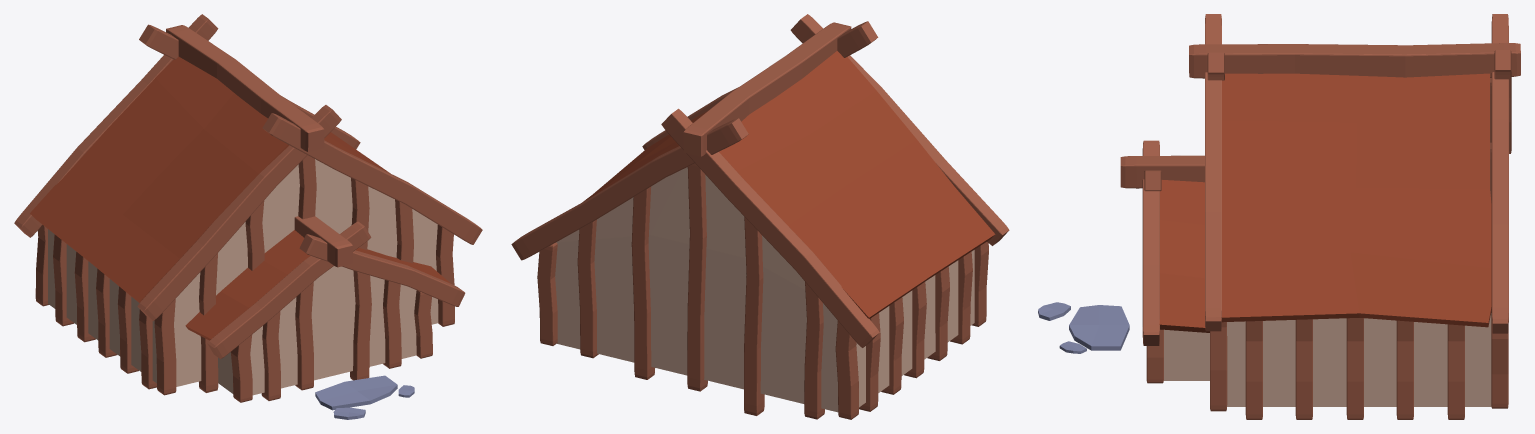
The model's file is house3.fbx.
The picture shows the model from 3 angles, left to right: view 1: azimuth 30°, elevation 25°; view 2: azimuth 150°, elevation 25°; view 3: azimuth 270°, elevation 25°; orthographic projection. The views are drawn at different scales.
Parts seen in each view (by area): view 1: Plane.016, Plane.010, Plane.009, Cube.134, Cube.135, Cube.137, Plane.014, Cube.128, Plane.001, Cube.129, Cube.149, Plane.003 (+24 smaller); view 2: Plane.016, Plane.013, Cube.149, Cube.147, Cube.137, Plane.001, Cube.144, Cube.148, Cube.143, Cube.134, Cube.001, Cube.002 (+10 smaller); view 3: Plane.015, Plane.018, Cube.137, Plane.011, Cube.147, Cube.135, Cube.129, Plane.003, Plane.020, Cube.013, Cube.005, Cube.004 (+9 smaller).
Boxes of the visible parts, x1,y1,x2,y2 form: Plane.016: [30, 56, 289, 302]; Plane.010: [174, 159, 438, 386]; Plane.009: [250, 266, 416, 395]; Cube.134: [137, 105, 341, 321]; Cube.135: [262, 113, 482, 244]; Cube.137: [166, 25, 324, 152]; Plane.014: [185, 230, 310, 340]; Cube.128: [207, 221, 371, 358]; Plane.001: [48, 229, 156, 383]; Cube.129: [299, 234, 465, 306]; Cube.149: [14, 14, 218, 237]; Plane.003: [315, 375, 397, 410]; Plane.016: [719, 51, 995, 318]; Plane.013: [555, 167, 838, 412]; Cube.149: [661, 108, 879, 347]; Cube.147: [511, 118, 748, 260]; Cube.137: [683, 22, 851, 156]; Plane.001: [856, 250, 974, 407]; Cube.144: [687, 163, 707, 391]; Cube.148: [744, 217, 764, 415]; Cube.143: [631, 186, 654, 379]; Cube.134: [790, 14, 1009, 245]; Cube.001: [577, 219, 598, 358]; Cube.002: [804, 282, 824, 419]; Plane.015: [1222, 73, 1491, 327]; Plane.018: [1227, 313, 1491, 406]; Cube.137: [1189, 43, 1520, 78]; Plane.011: [1159, 180, 1209, 332]; Cube.147: [1491, 14, 1508, 333]; Cube.135: [1205, 14, 1221, 331]; Cube.129: [1142, 140, 1159, 345]; Plane.003: [1069, 305, 1129, 350]; Plane.020: [1163, 329, 1209, 380]; Cube.013: [1120, 155, 1204, 188]; Cube.005: [1346, 318, 1363, 419]; Cube.004: [1295, 319, 1312, 419].
Size of the model in its own units: 487 by 371 by 513.
